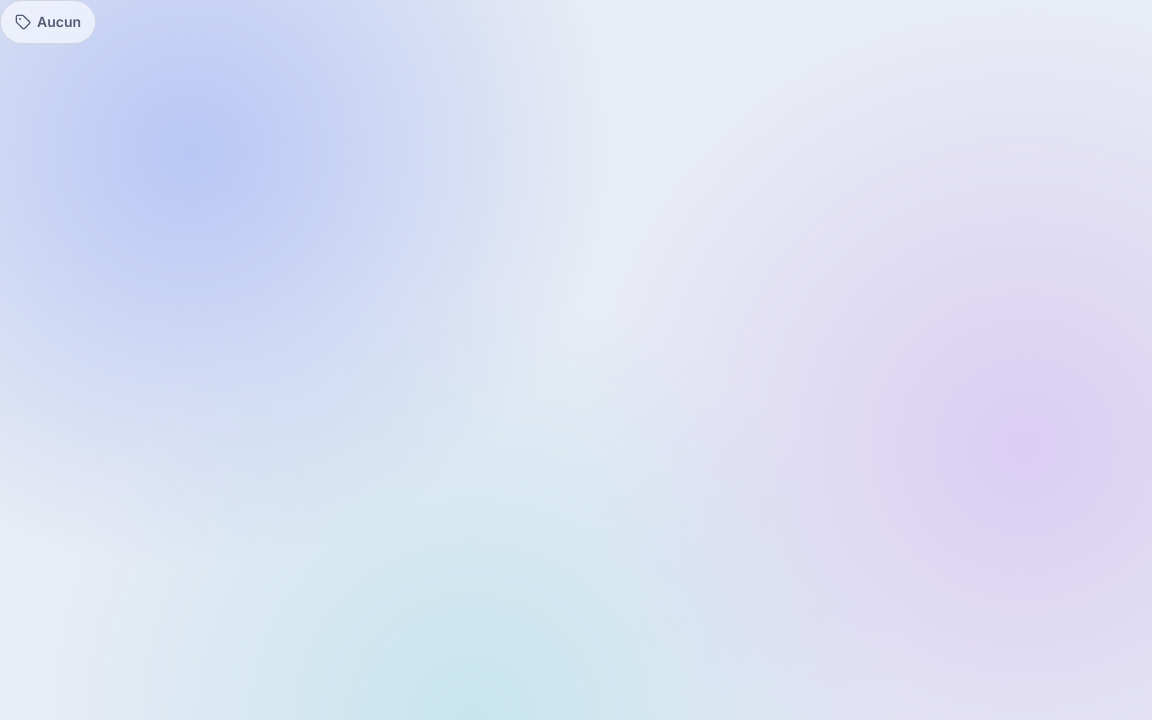
pastille Tags › chargeur en échec : message, la création reste possible
Step 1. Click the button with aria-label "Tags" → [48, 22], box [0,0,96,44]
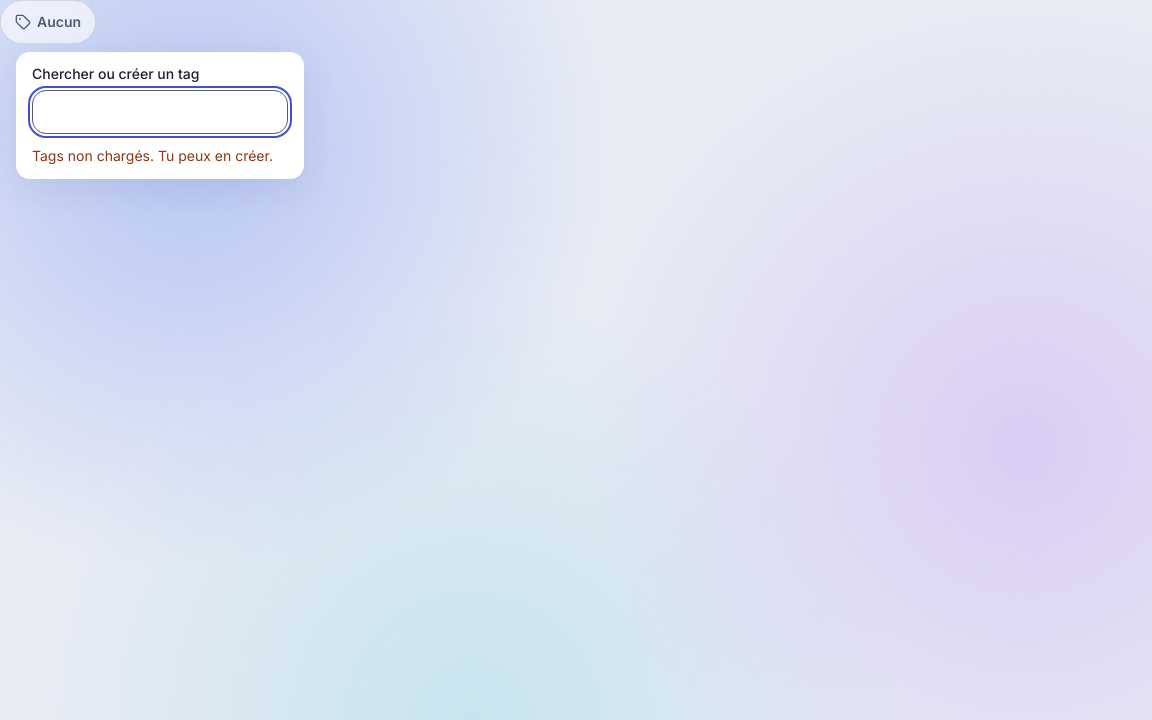
Check: the text "Tags non chargés. Tu peux en créer." is shown, box [32,147,273,164]
